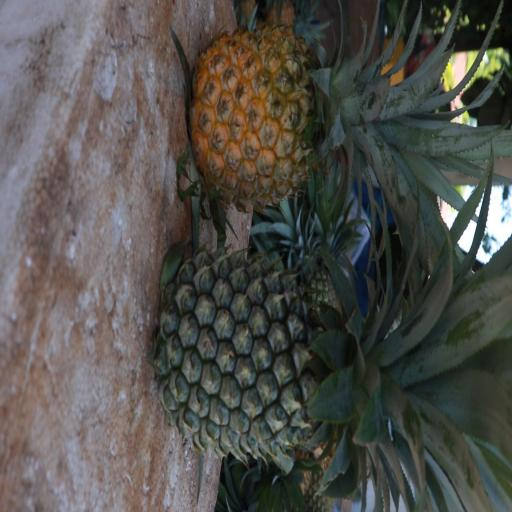Pineapple - v8 v1: (193, 27, 478, 197)
